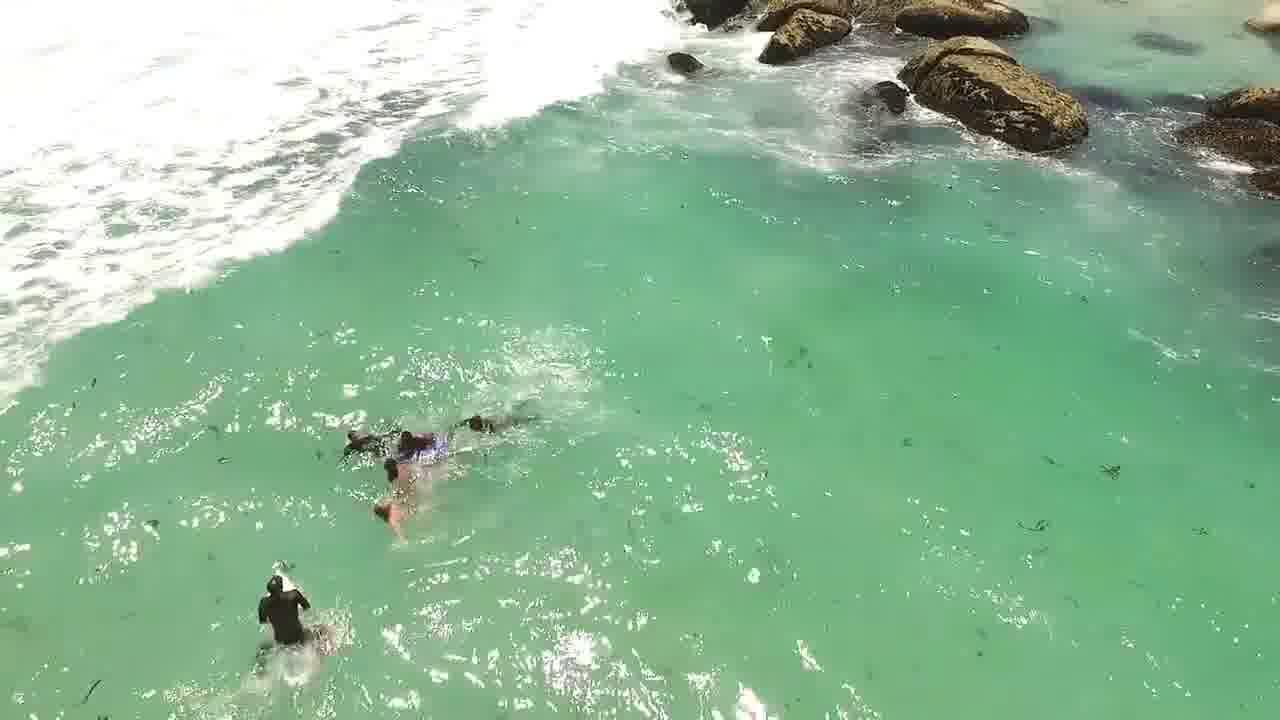human: (444, 402, 530, 442), (360, 489, 422, 540), (328, 415, 391, 460), (391, 420, 454, 457), (368, 449, 427, 487)
